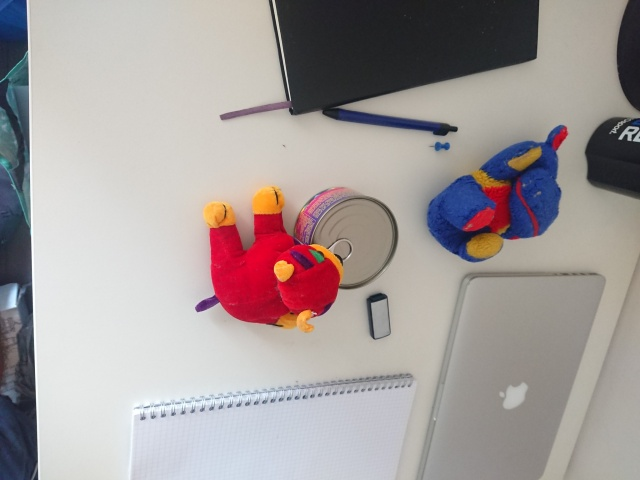Giana Tuna Salad Mexico 185g: (291, 184, 400, 293)
